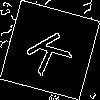K: (25, 25, 81, 77)
